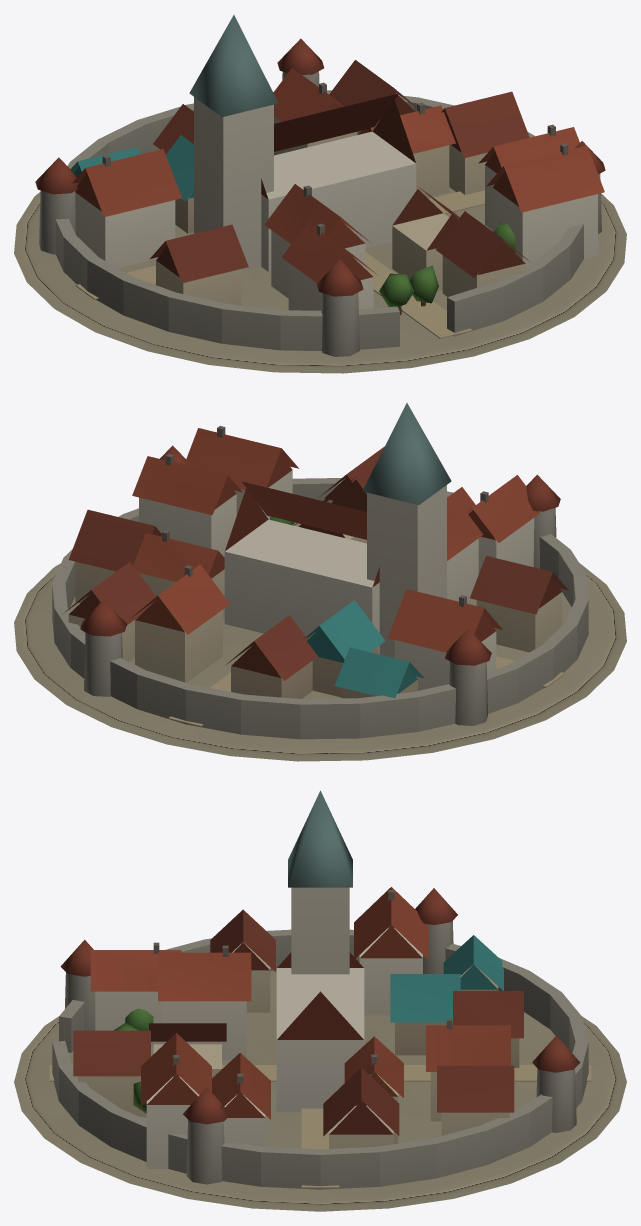
File: settlement_0_4.glb
3 views of the same model, one above another, from view 1: azimuth 30°, elevation 25°; view 2: azimuth 150°, elevation 25°; view 3: azimuth 270°, elevation 25° (orthographic).
Visible parts, largest first — view 1: part_0; view 2: part_0; view 3: part_0.
Boxes of the visible parts, bbox=[...] form: part_0: bbox=[14, 15, 626, 373]; part_0: bbox=[14, 403, 626, 761]; part_0: bbox=[14, 790, 626, 1211].
Bounding box in the file's own units: 32.8 × 14.76 × 32.8.
